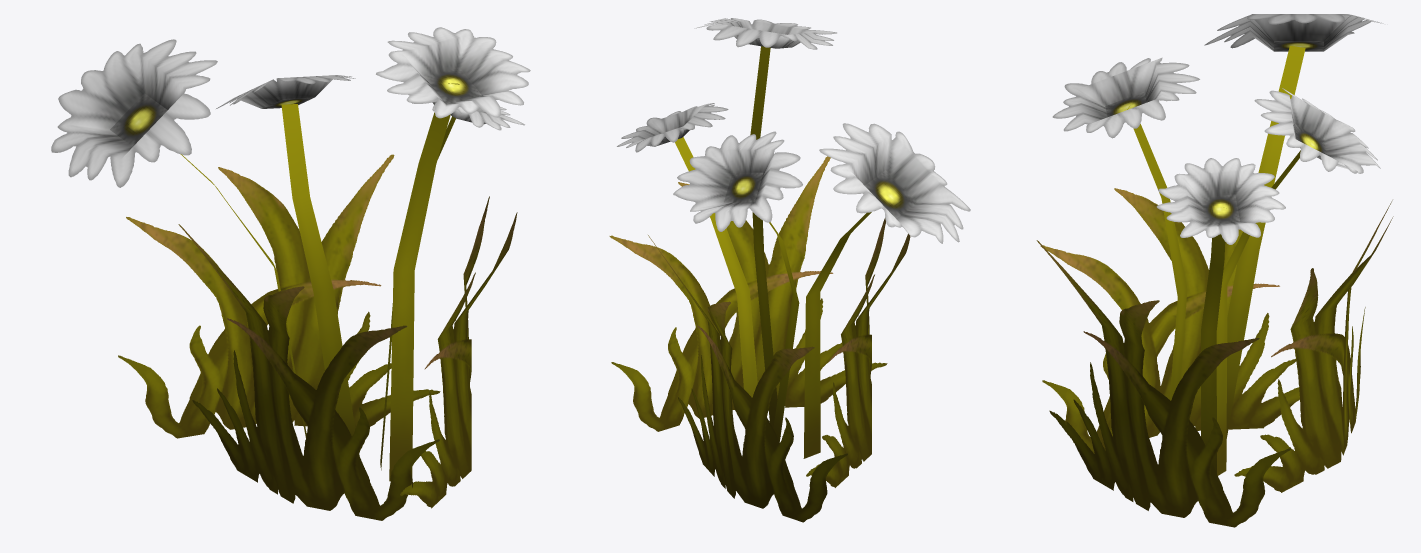
The model's file is flowerH.fbx.
3 renders of one model, left to right at view 1: azimuth 30°, elevation 25°; view 2: azimuth 150°, elevation 25°; view 3: azimuth 270°, elevation 25°, orthographic. The views are drawn at different scales.
Visible parts, largest first — view 1: flowerH; view 2: flowerH; view 3: flowerH.
Part boxes in pixels (left/top/right/bottom): flowerH: left=51, top=27, right=530, bottom=520; flowerH: left=609, top=18, right=970, bottom=522; flowerH: left=1036, top=14, right=1393, bottom=527.
Bounding box in the file's own units: 88.91 × 87.28 × 71.84.
Materials: 1 (1 with a texture image).
